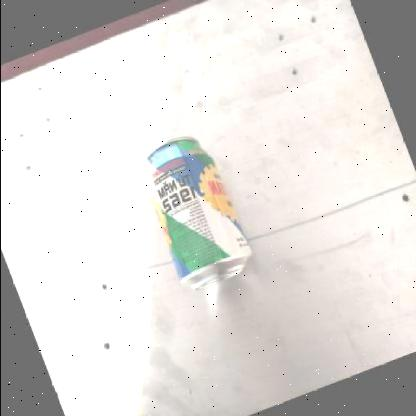Can: (146, 136, 250, 289)
